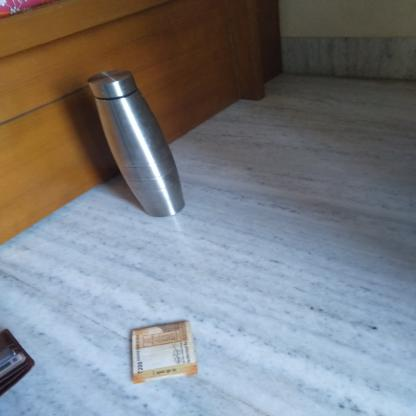New200Back: (130, 323, 190, 380)
